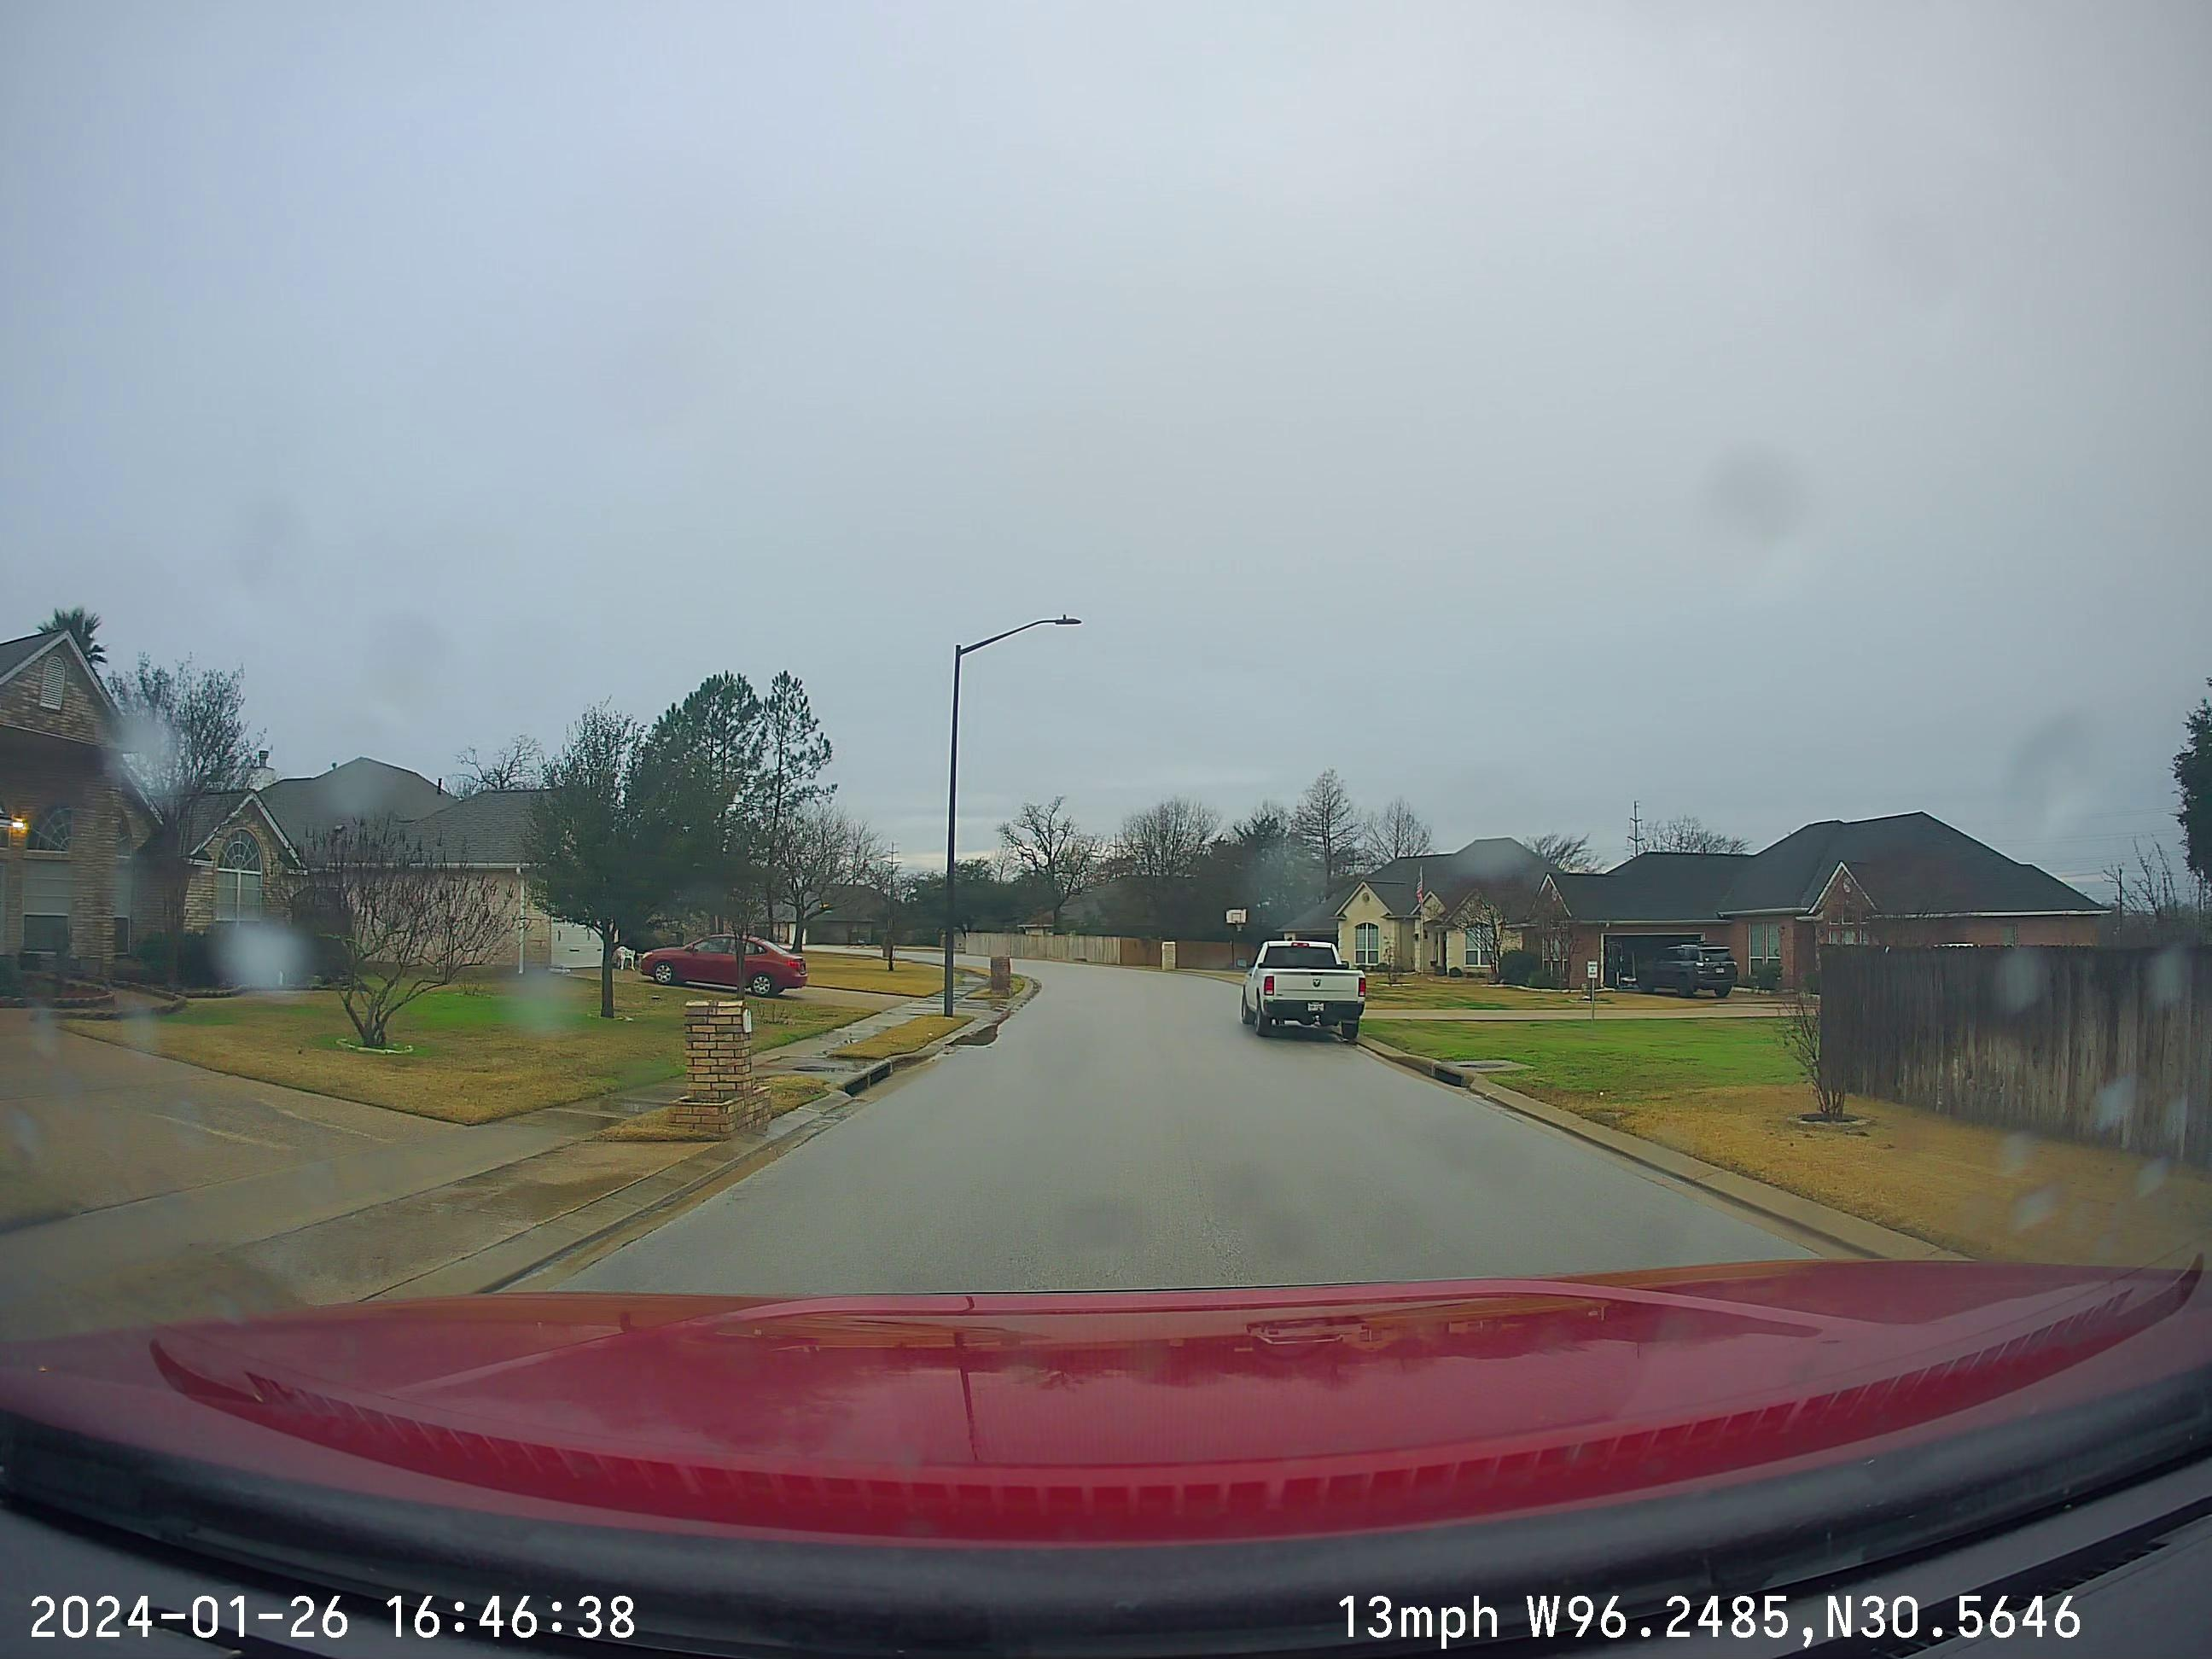car: (1241, 939, 1366, 1044), (638, 935, 806, 996)
truck: (1241, 938, 1366, 1044)
